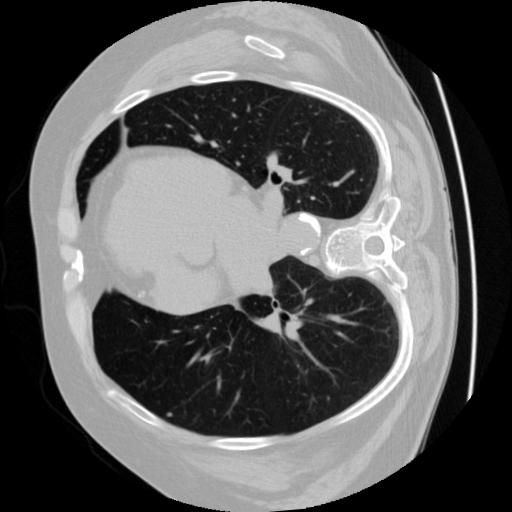nodule: (163, 410, 175, 422)
